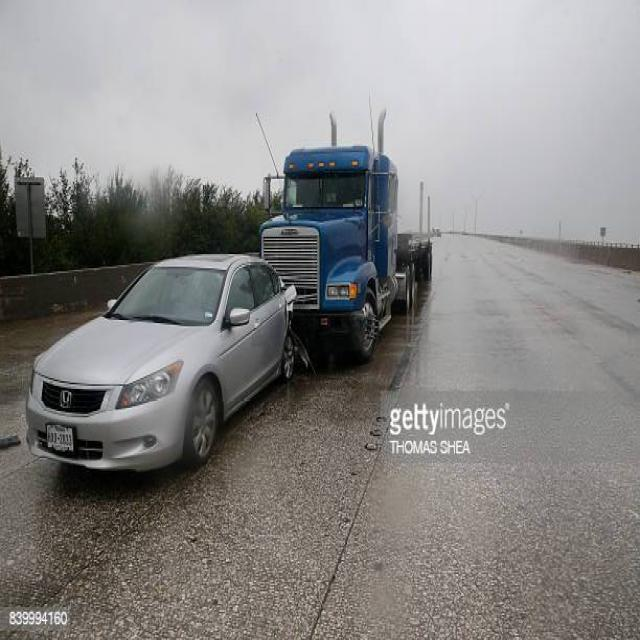accident: (32, 105, 427, 497)
